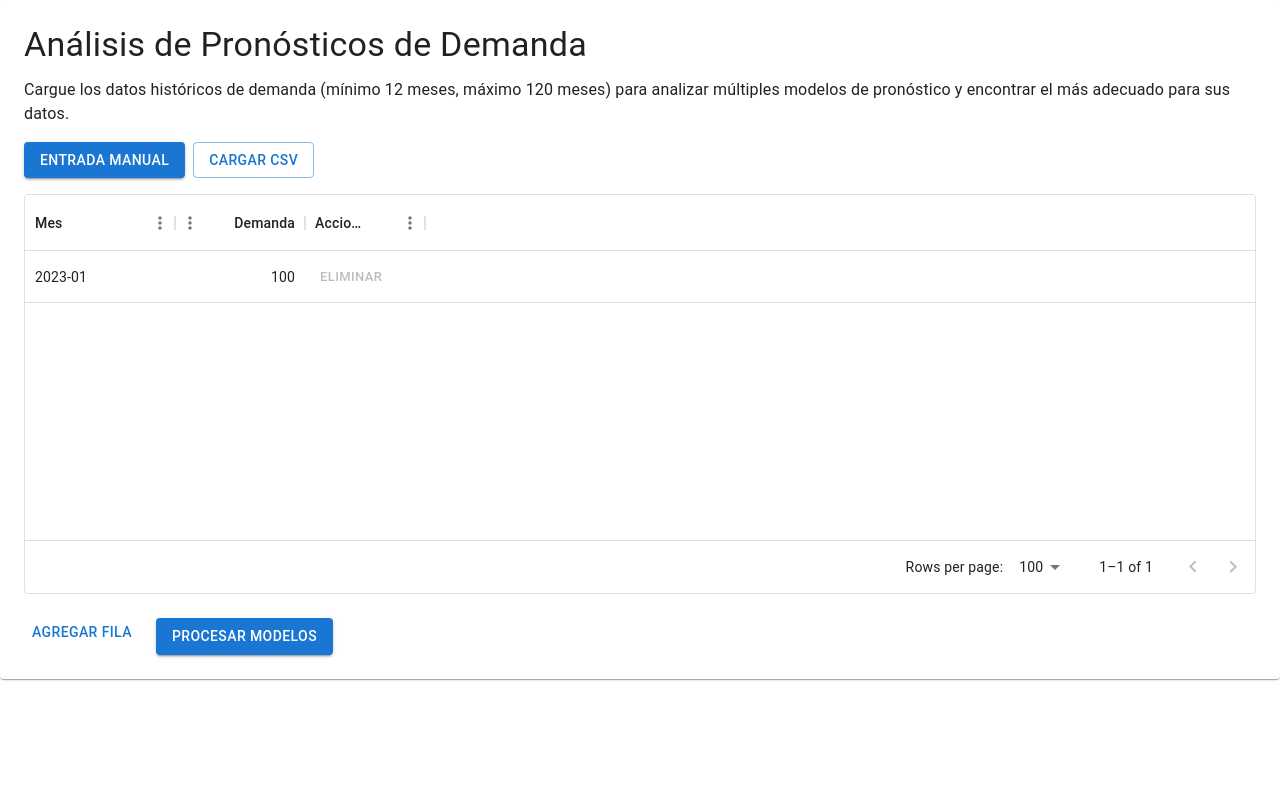
Test: Responsive Design Tests › Component Rendering and Basic Responsiveness › Component interactions work correctly
Note: Test button interactions
Click the button "Cargar CSV".
click(254, 160)  # box top-left (193, 142), bottom-right (314, 178)
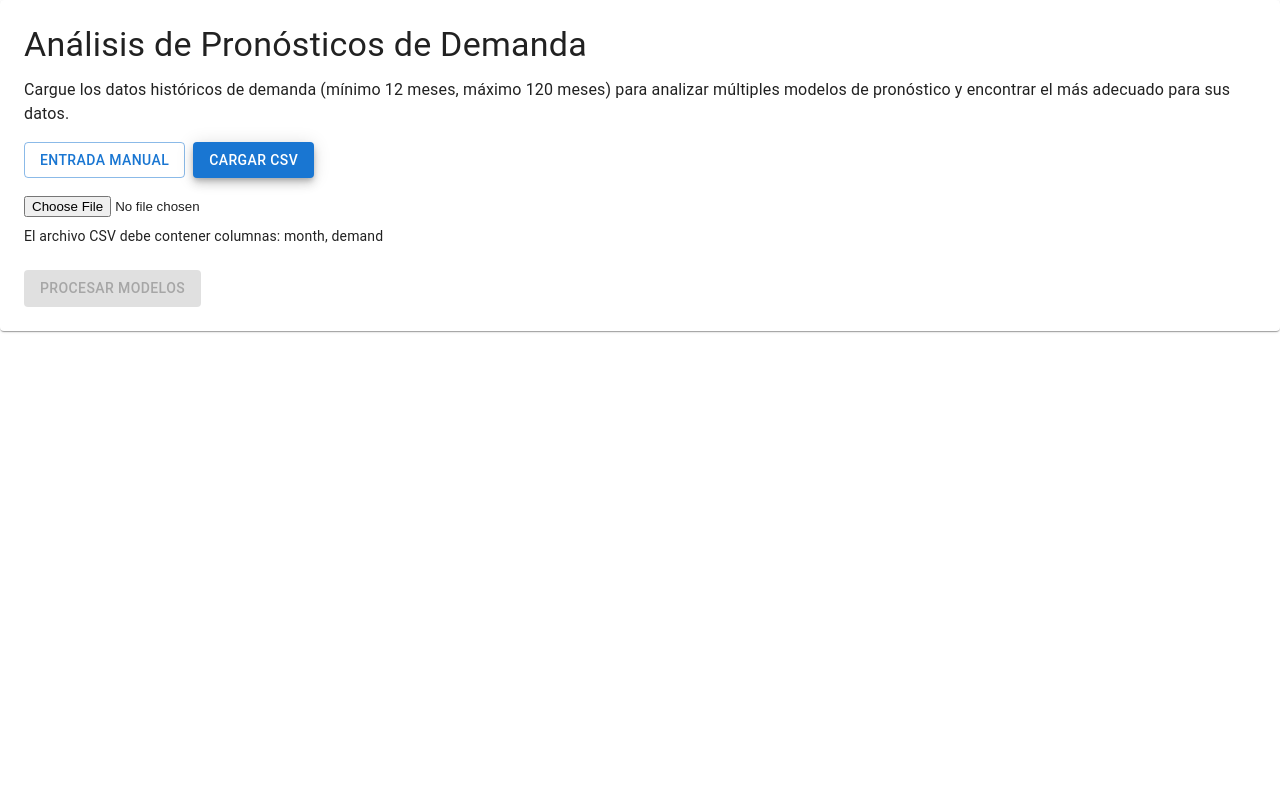
expect the text "El archivo CSV debe contener columnas: month, demand" is shown: met, box top-left (24, 228), bottom-right (383, 244)
Note: Switch back to manual
Click the button "Entrada Manual".
click(105, 160)  # box top-left (24, 142), bottom-right (185, 178)
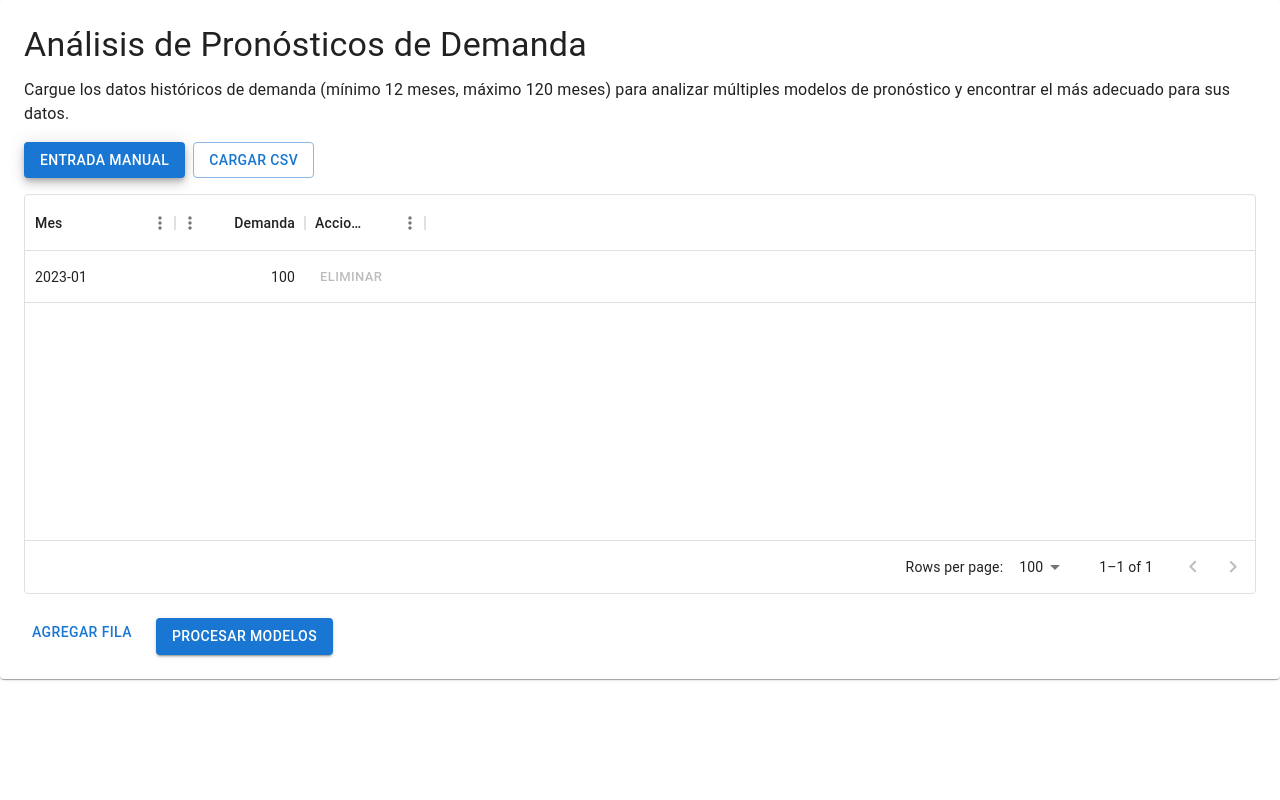
expect the button "Agregar Fila" is shown: met, box top-left (24, 614), bottom-right (140, 651)
